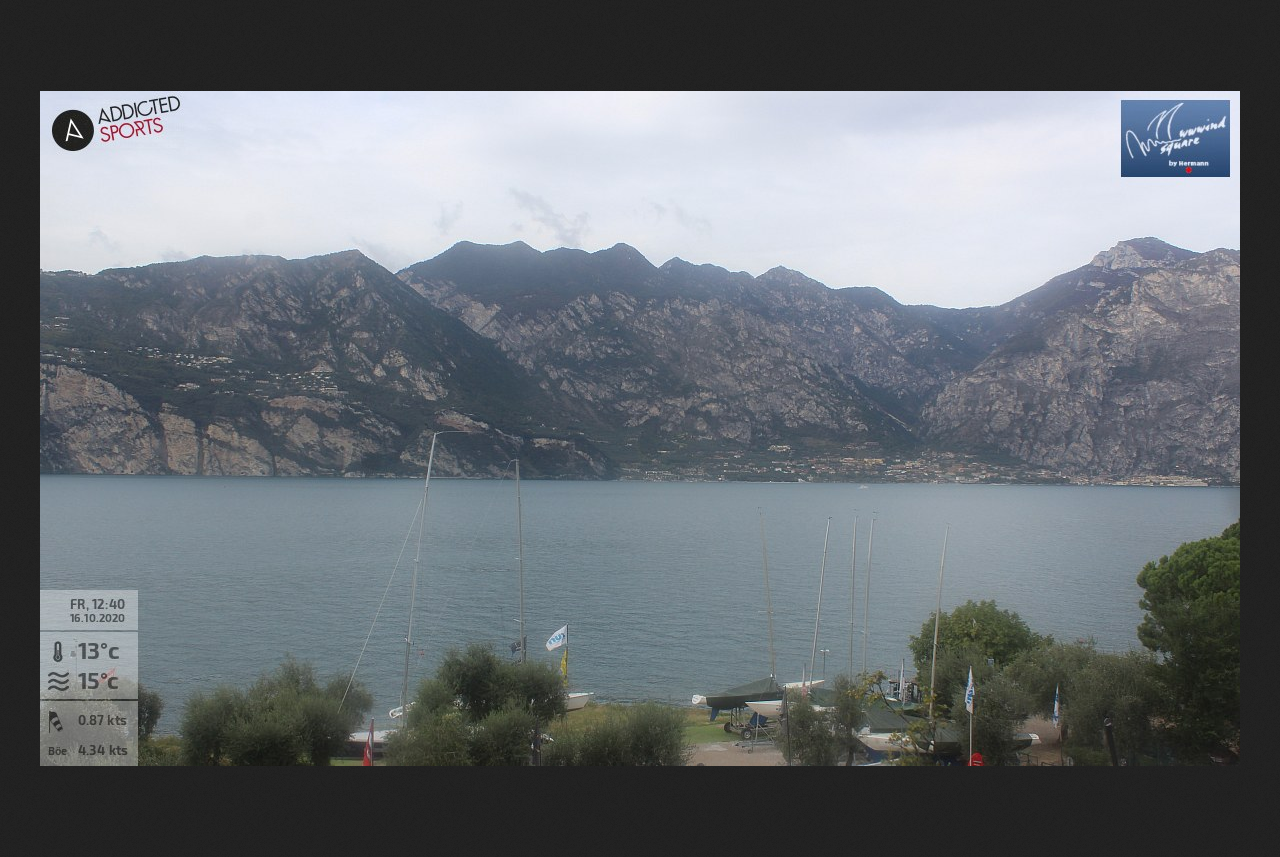maybe: (541, 622, 572, 657)
no: (1047, 675, 1069, 725), (961, 669, 980, 722)
